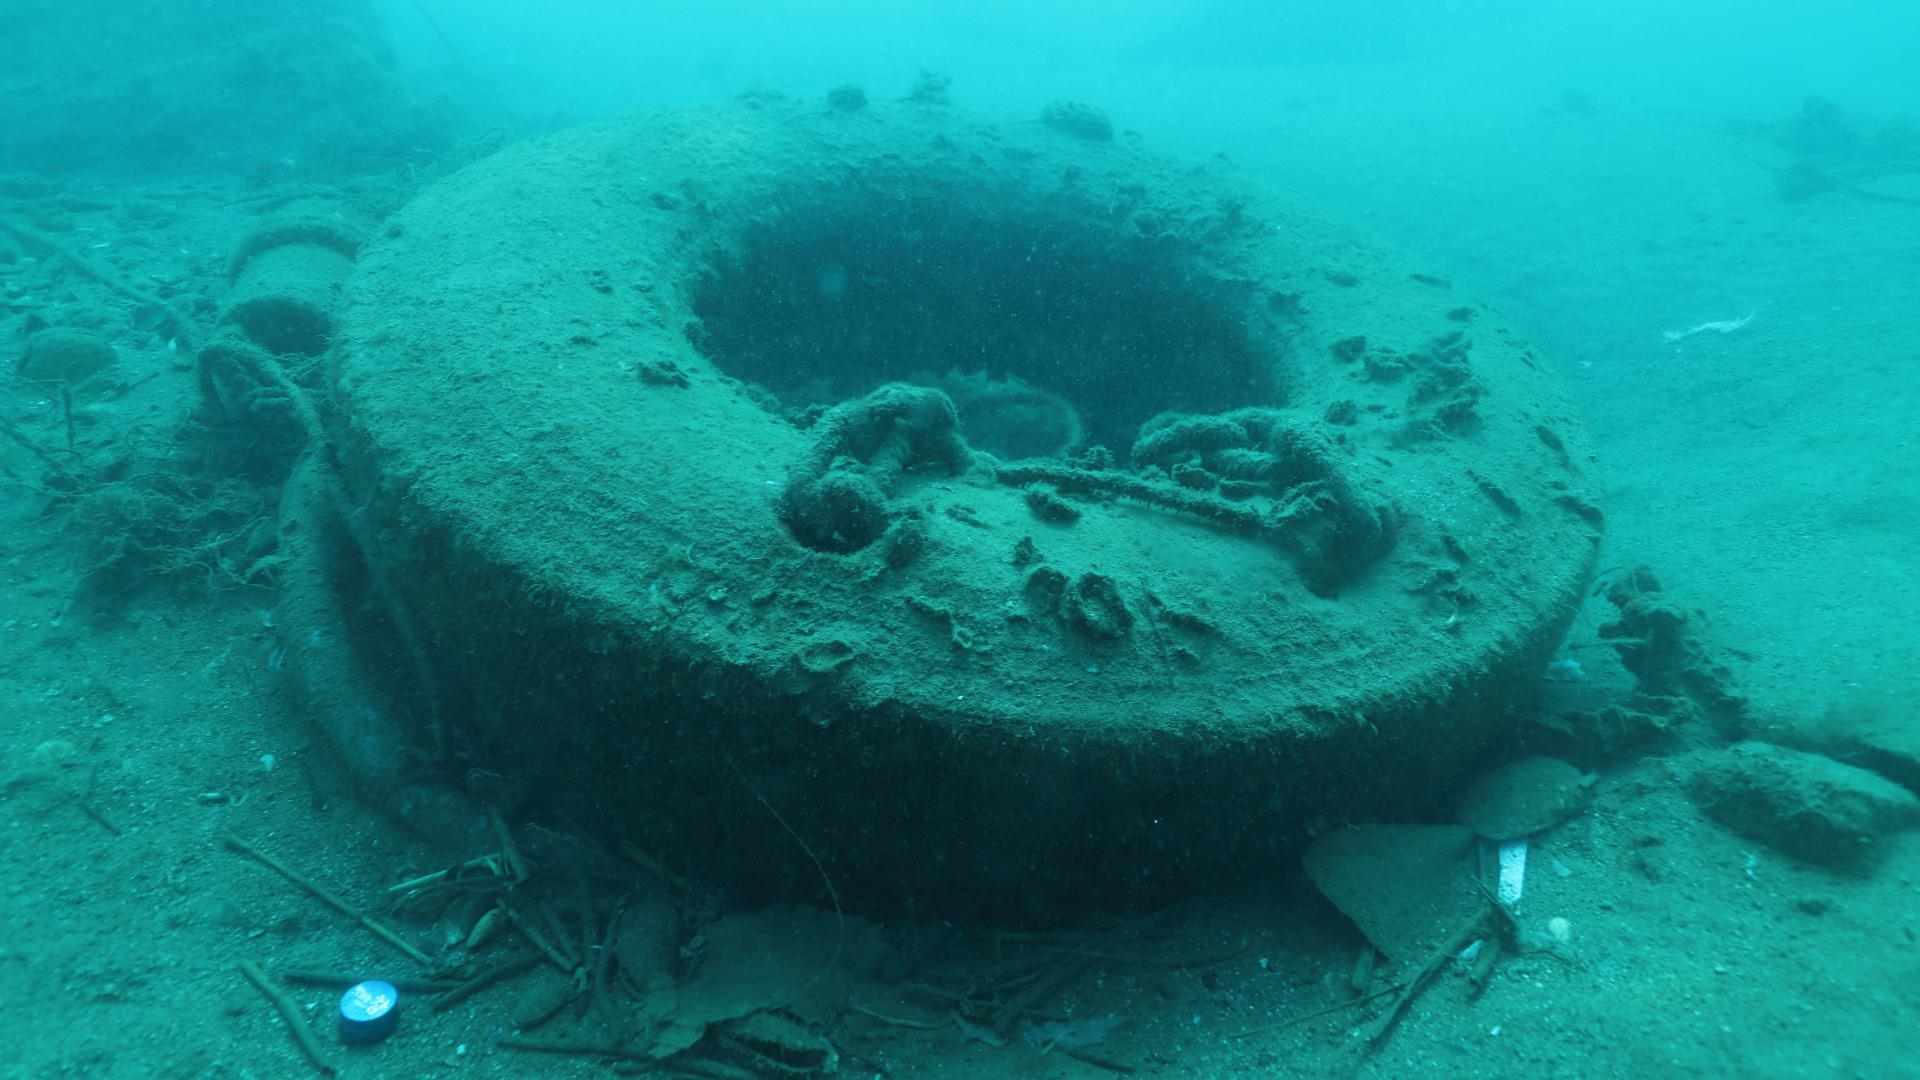tire: (328, 87, 1601, 916)
